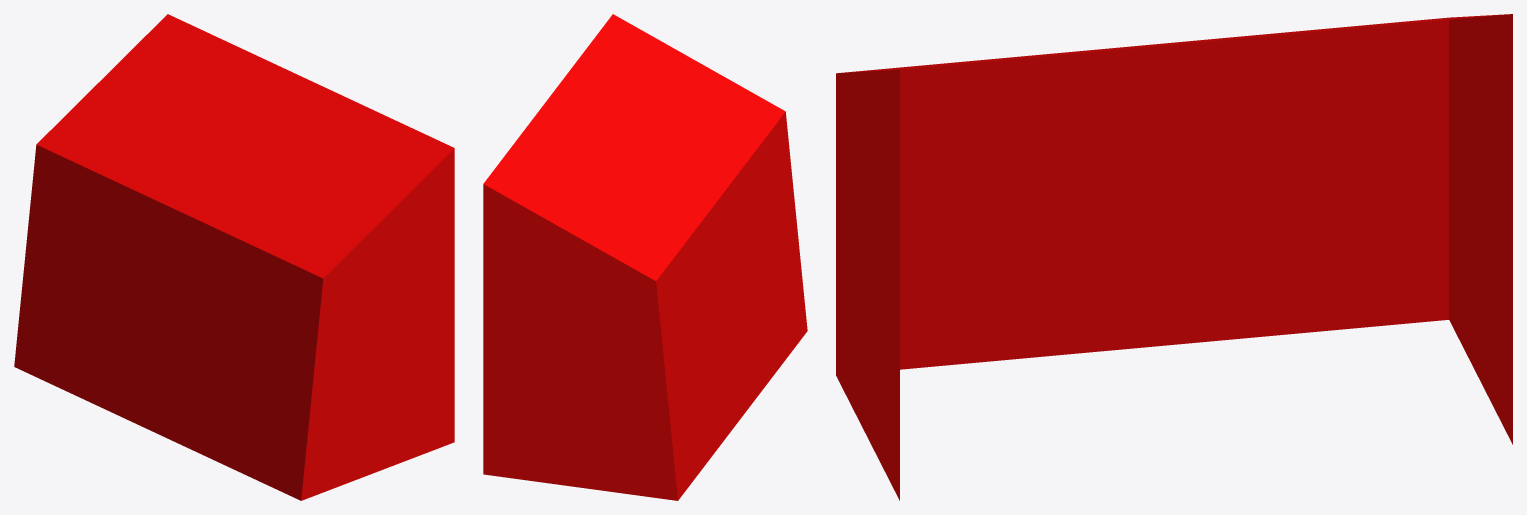
The model's file is WitchShop_Computer1.fbx.
3 renders of one model, left to right at view 1: azimuth 30°, elevation 25°; view 2: azimuth 150°, elevation 25°; view 3: azimuth 270°, elevation 25°, orthographic. The views are drawn at different scales.
Parts seen in each view (by area): view 1: ComputerBase; view 2: ComputerBase; view 3: ComputerBase.
Part boxes in pixels (x1,y1,x2,y2): ComputerBase: [14, 14, 454, 500]; ComputerBase: [483, 14, 807, 500]; ComputerBase: [836, 14, 1512, 500].
Bounding box in the file's own units: 71.92 × 79.83 × 114.
